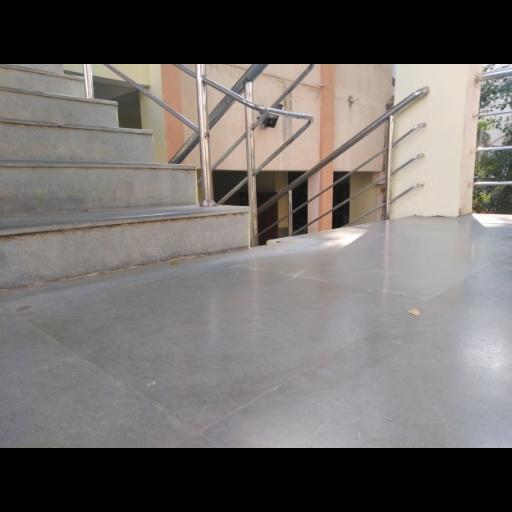stairs: (0, 64, 248, 287)
